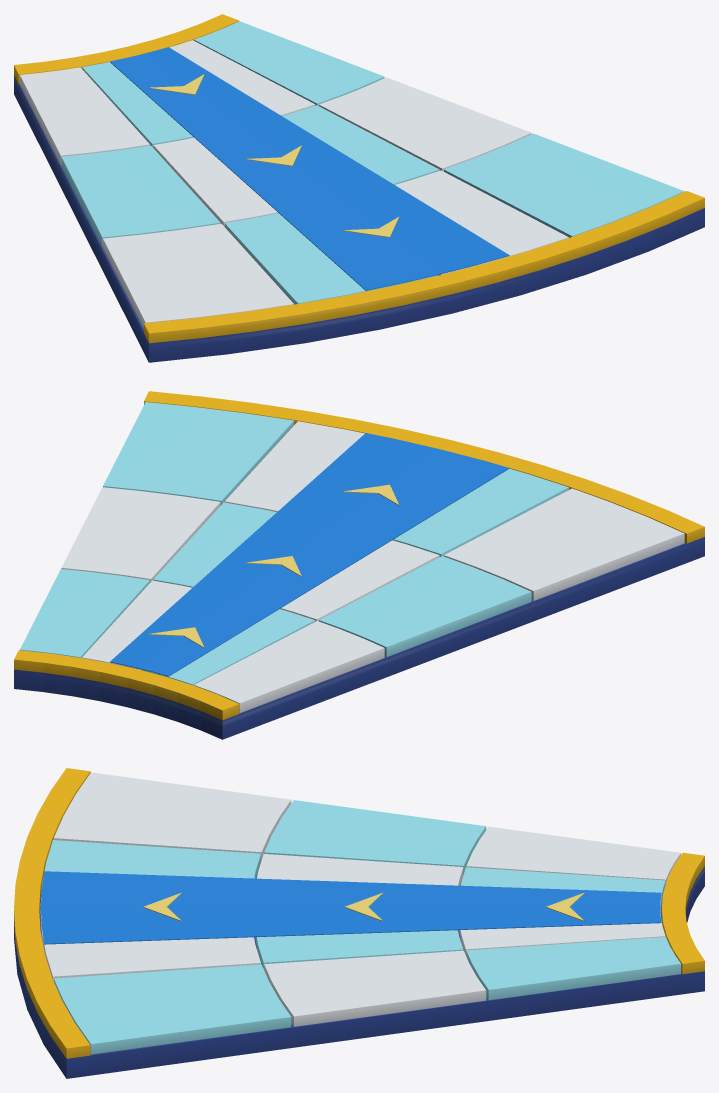
File: HubRingSegment.fbx
The picture shows the model from 3 angles, top to bottom: view 1: azimuth 30°, elevation 25°; view 2: azimuth 150°, elevation 25°; view 3: azimuth 270°, elevation 25°; orthographic projection. The views are drawn at different scales.
Visible parts, largest first — view 1: HubRingSegment; view 2: HubRingSegment; view 3: HubRingSegment.
Boxes of the visible parts, x1,y1,x2,y2 form: HubRingSegment: (14,14,704,362); HubRingSegment: (14,391,704,739); HubRingSegment: (14,768,704,1078).
Size of the model in its own units: 19.78 by 1.05 by 20.59.
1 material, 1 textured.
